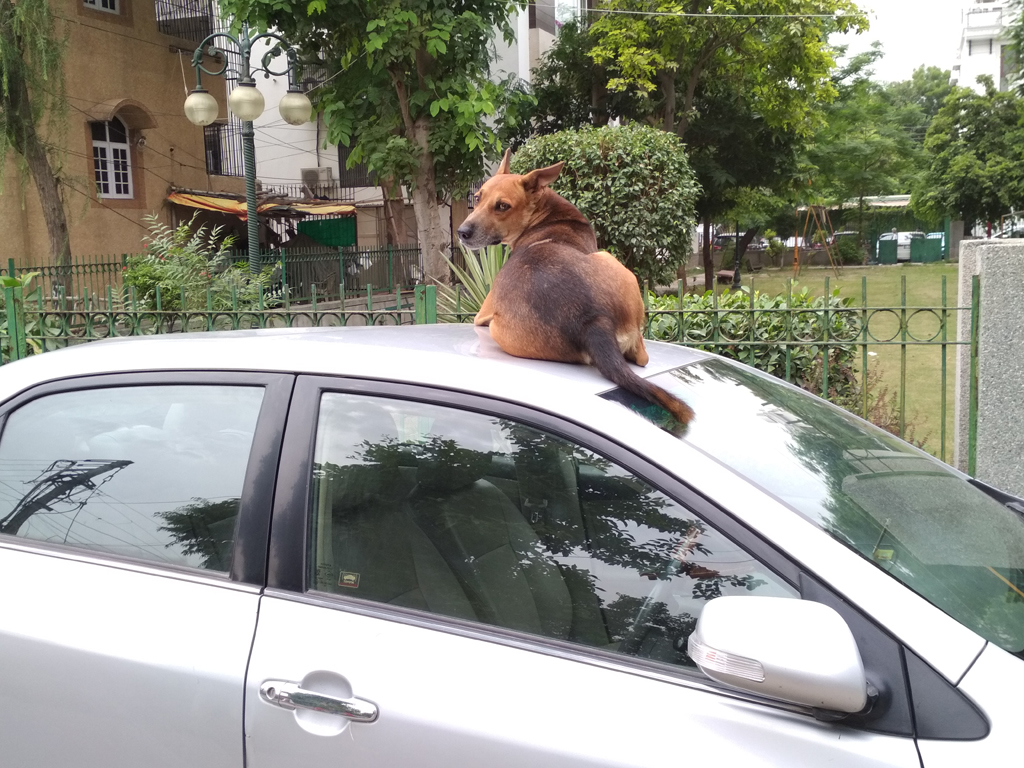dog: (455, 147, 698, 438)
